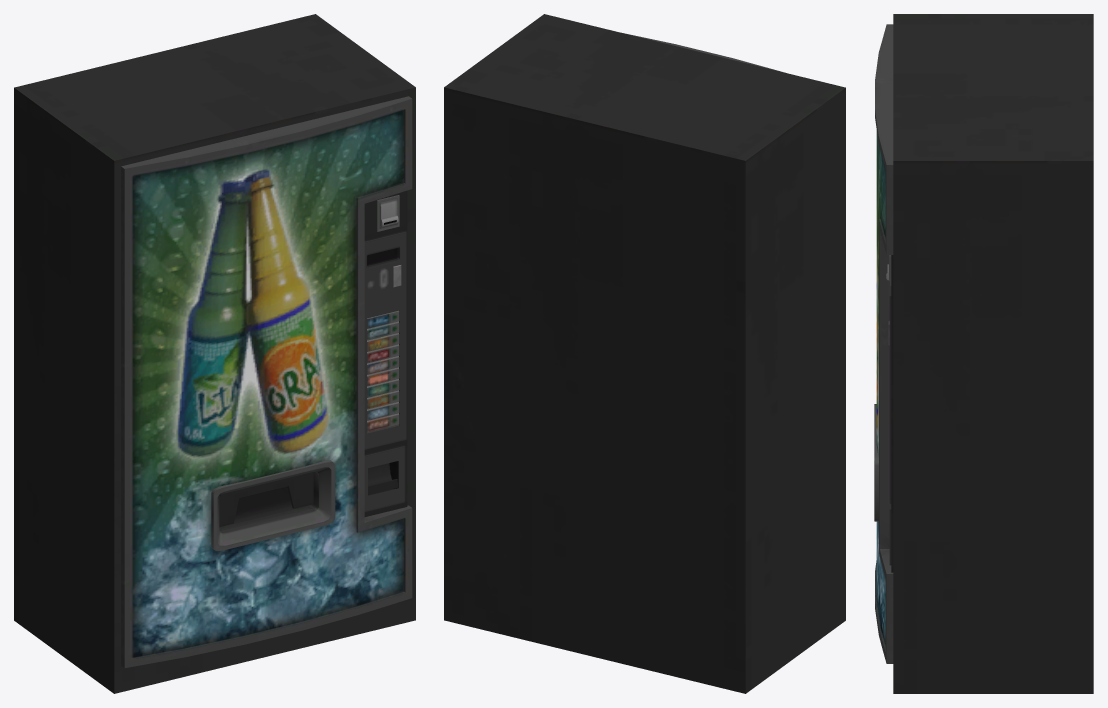
The model's file is ItemSpot.fbx.
The picture shows the model from 3 angles, left to right: view 1: azimuth 30°, elevation 25°; view 2: azimuth 150°, elevation 25°; view 3: azimuth 270°, elevation 25°; orthographic projection.
Parts seen in each view (by area): view 1: ItemBox_VendingMachine_01; view 2: ItemBox_VendingMachine_01; view 3: ItemBox_VendingMachine_01.
Part boxes in pixels (x1,y1,x2,y2): ItemBox_VendingMachine_01: [14, 14, 415, 693]; ItemBox_VendingMachine_01: [444, 14, 845, 693]; ItemBox_VendingMachine_01: [874, 14, 1093, 693].
Size of the model in its own units: 1.24 by 2.1 by 0.7843.
1 material, 1 textured.
